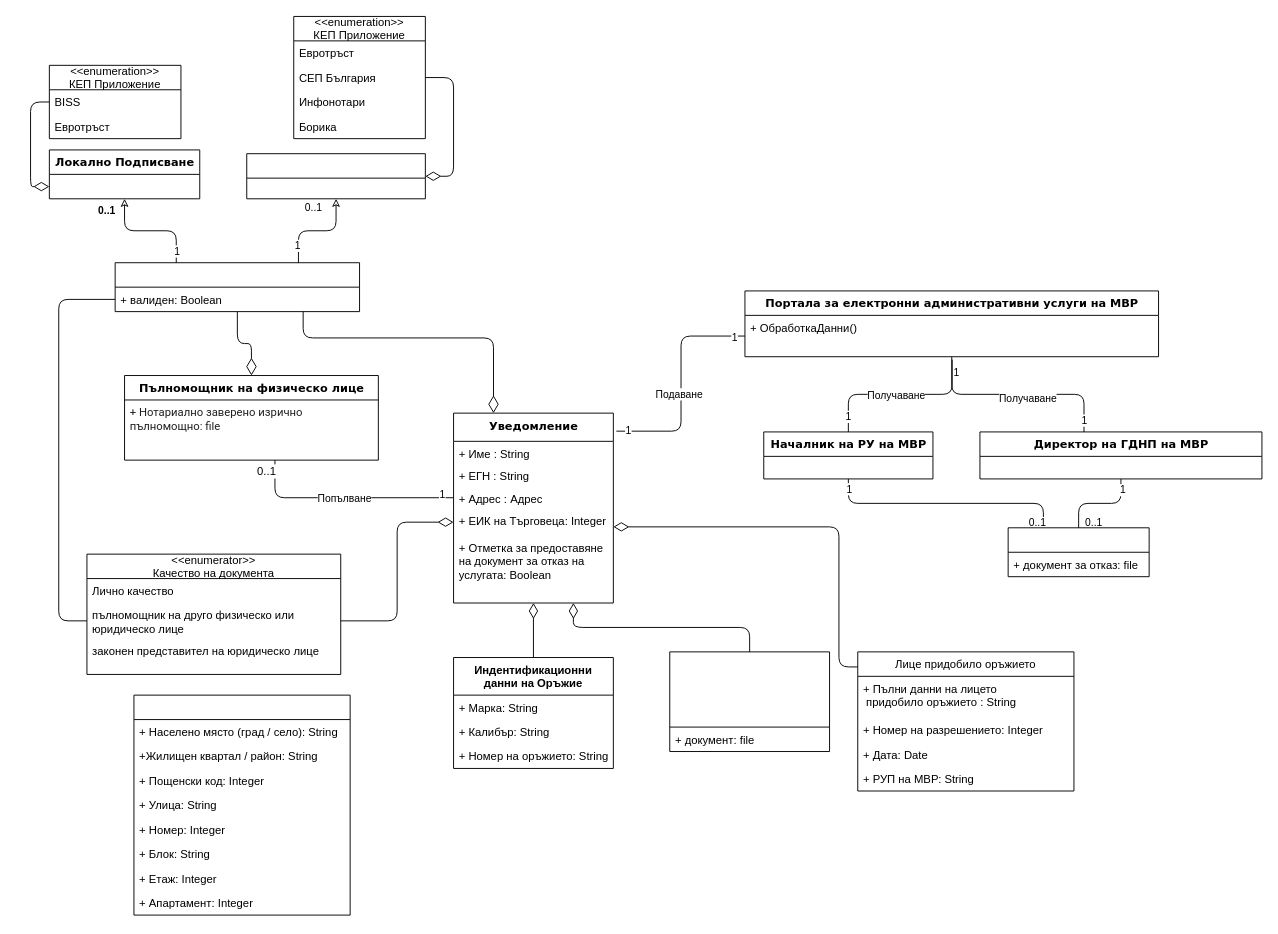
Image size: 1278x934. Some labels were removed from this diagram. Here are the shapes that lost their labels. From the top down, the box of each, then its label:
(246, 153, 425, 199): Отдалечено Подписване
(114, 262, 360, 312): Квалифициран Електронен Подпис
(1007, 527, 1149, 577): ССЕВ
(669, 651, 830, 752): Документ за извършената покупко-продажба с търговец
(133, 694, 350, 915): Адрес
